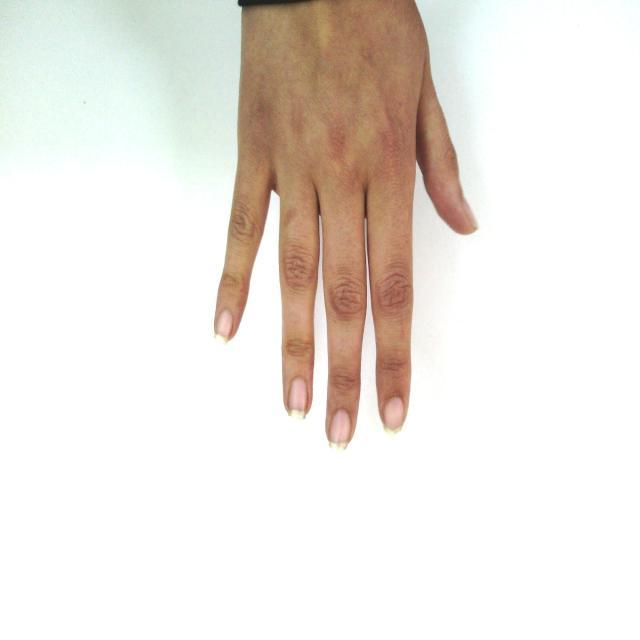Fingernail: (289, 377, 308, 420), (330, 410, 350, 449), (384, 398, 404, 433), (216, 311, 233, 339), (464, 203, 478, 224)
